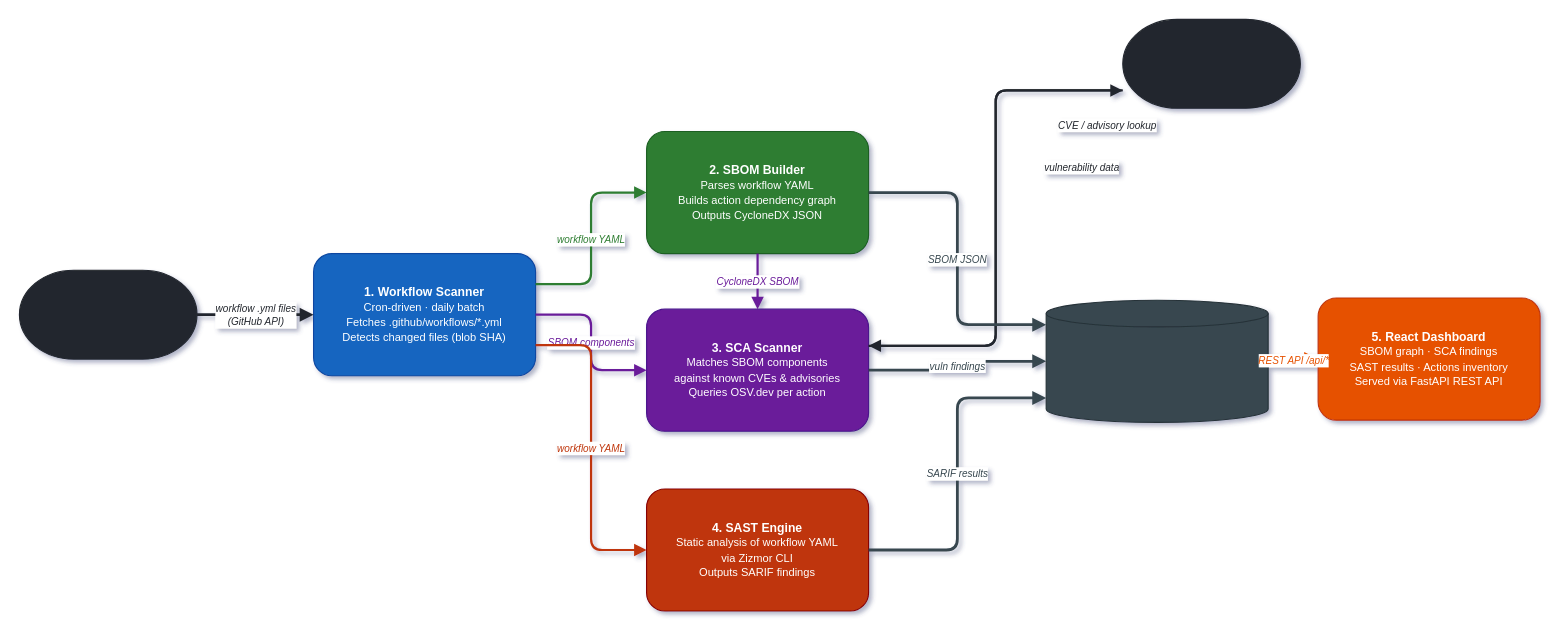
Some shapes in this 1566 by 637 pixel diagram are drawn without their labels. The box of each missing label's shape, as (x1, y1, x2, y2) in pixels:
DB SBOM JSON · Vuln findings SARIF results · Actions inventory Repo scan history: (1045, 299, 1268, 422)
GitHub Repository for CI/CD workflow files: (18, 269, 197, 359)
OSV.dev Open-source vulnerability advisory database: (1122, 18, 1300, 108)
